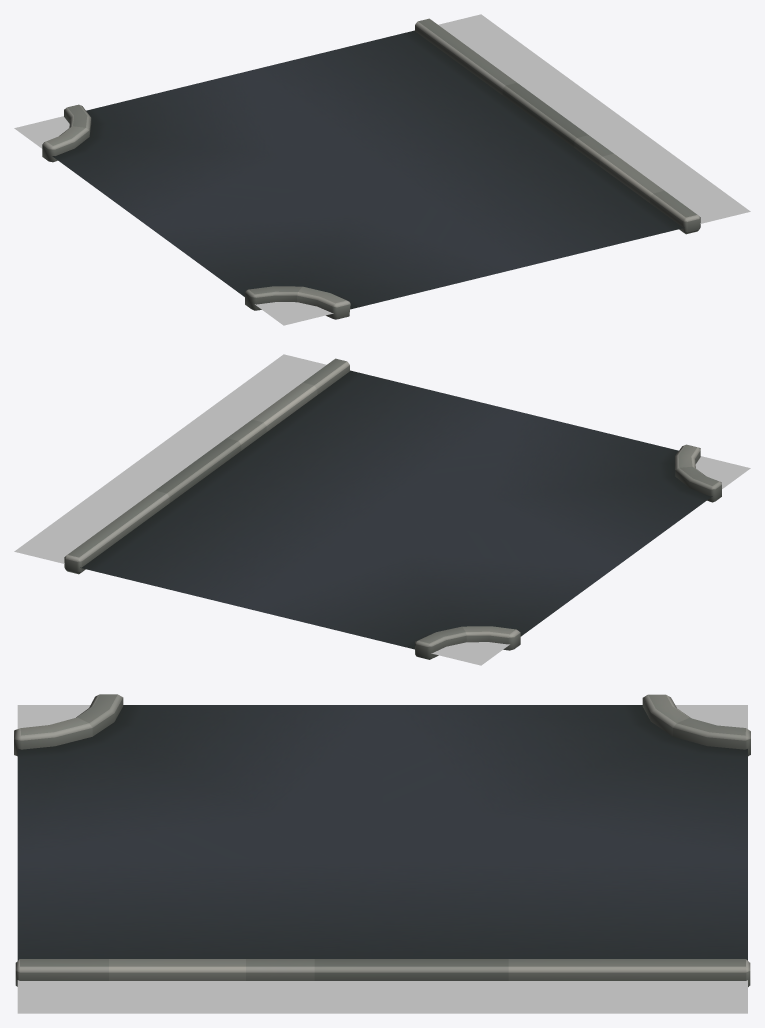
File: road_section_t_section.fbx
3 renders of one model, top to bottom at view 1: azimuth 30°, elevation 25°; view 2: azimuth 150°, elevation 25°; view 3: azimuth 270°, elevation 25°, orthographic. The views are drawn at different scales.
Parts seen in each view (by area): view 1: road_section_t_section, road_section_t_section_sidewalk; view 2: road_section_t_section, road_section_t_section_sidewalk; view 3: road_section_t_section, road_section_t_section_sidewalk.
Part boxes in pixels (x1,y1,x2,y2): road_section_t_section: (42, 18, 700, 319); road_section_t_section_sidewalk: (14, 14, 750, 325); road_section_t_section: (64, 358, 721, 659); road_section_t_section_sidewalk: (14, 354, 750, 665); road_section_t_section: (14, 694, 750, 986); road_section_t_section_sidewalk: (17, 705, 747, 1013).
Bounding box in the file's own units: 1608 × 55 × 1615.
